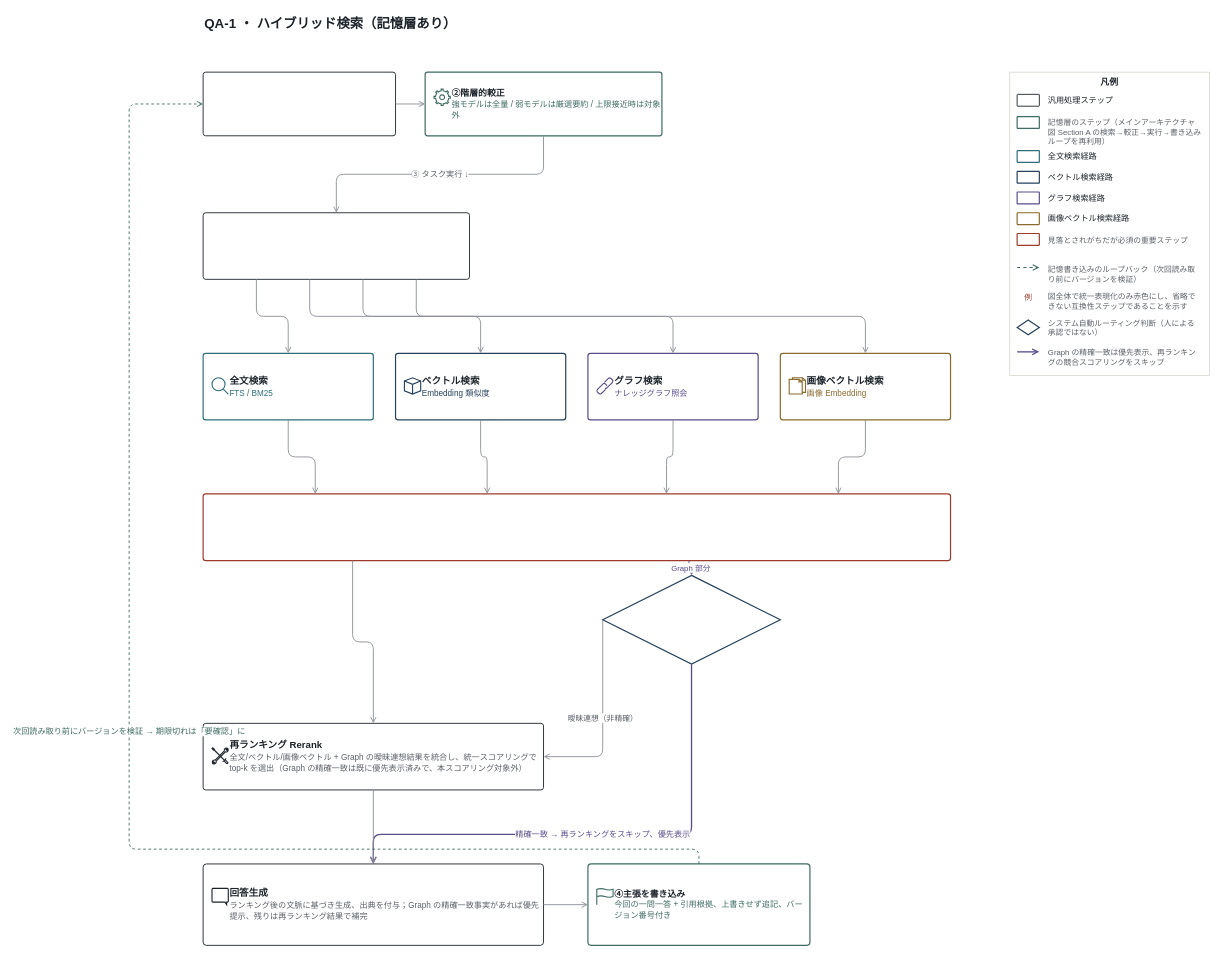
Some shapes in this 1222 by 958 pixel diagram are drawn without their labels. The centre of each missing label's shape, as x and y in pixels:
Graph のヒットは精確一致か？ （具体的なエンティティ/関係を直接検索、曖昧な意味連想ではない）: the point at 691,619
①記憶ストアを検索 user_id / project_id 単位で履歴対話 + 解析済みエンティティ/結論を取得: the point at 299,103
統一表現化 異なるモダリティの結果は先にテキストへ統一しないと再ランキングに進めない——グラフの部分グラフ→自然文記述、画像→キャプション/OCR テキスト: the point at 576,527
質問解析 記憶を踏まえて指示語解決 / クエリ書き換え、意図を判定: the point at 336,245
